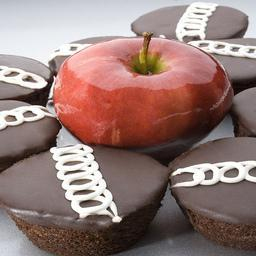apple: (53, 37, 233, 150)
